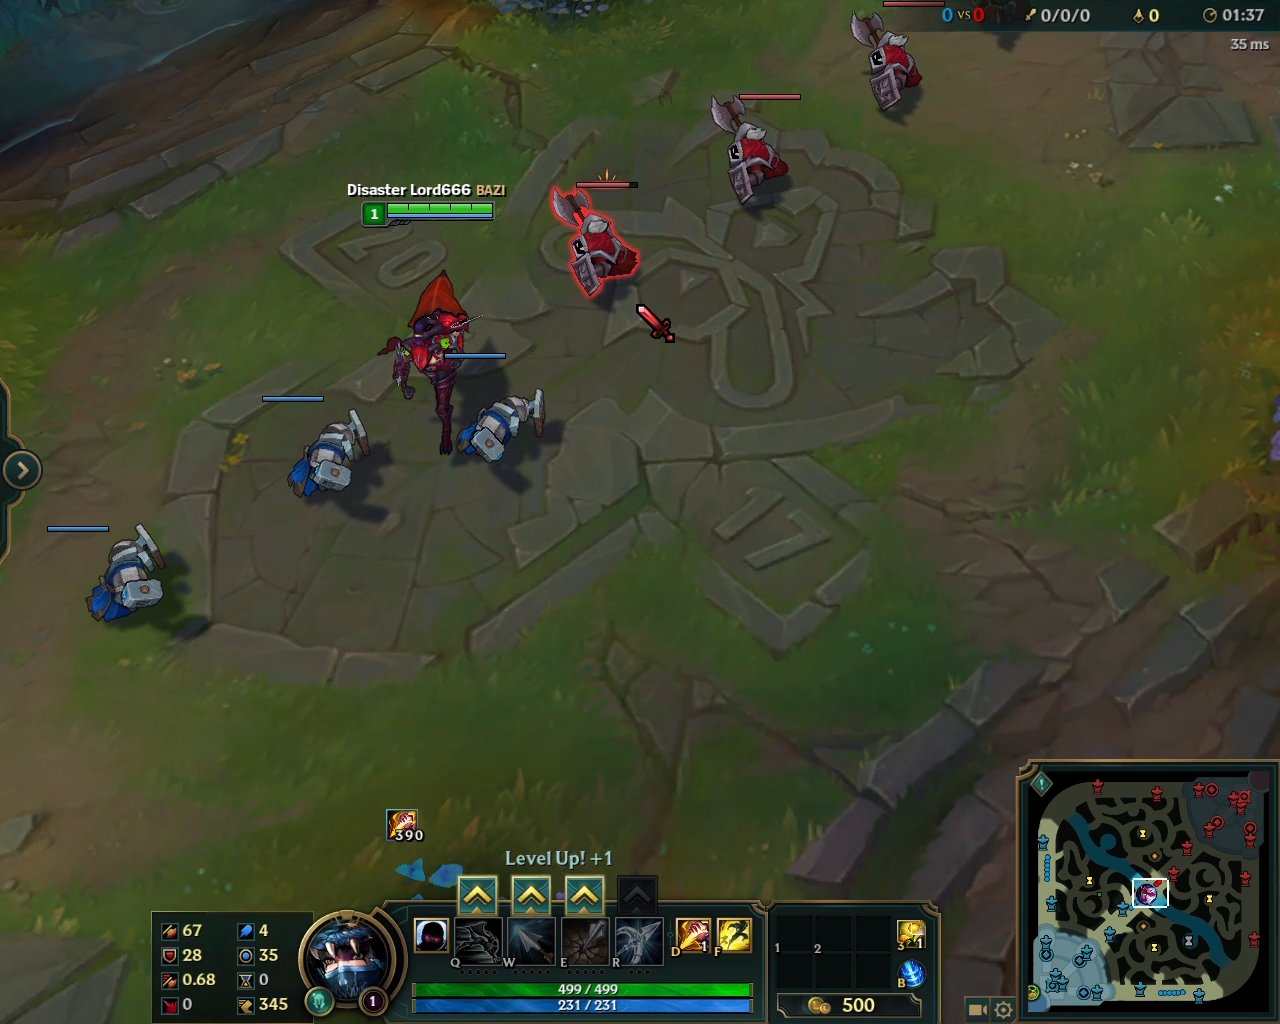EnemyMinion: (546, 178, 638, 303), (706, 90, 800, 206), (845, 11, 927, 117)
Vayne: (375, 261, 478, 458)
